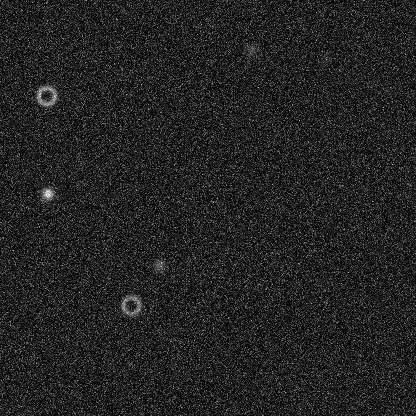Ring: (34, 83, 58, 107), (119, 293, 143, 317)
Spot: (151, 257, 167, 273), (243, 41, 259, 57), (315, 50, 331, 66), (39, 185, 55, 201)
